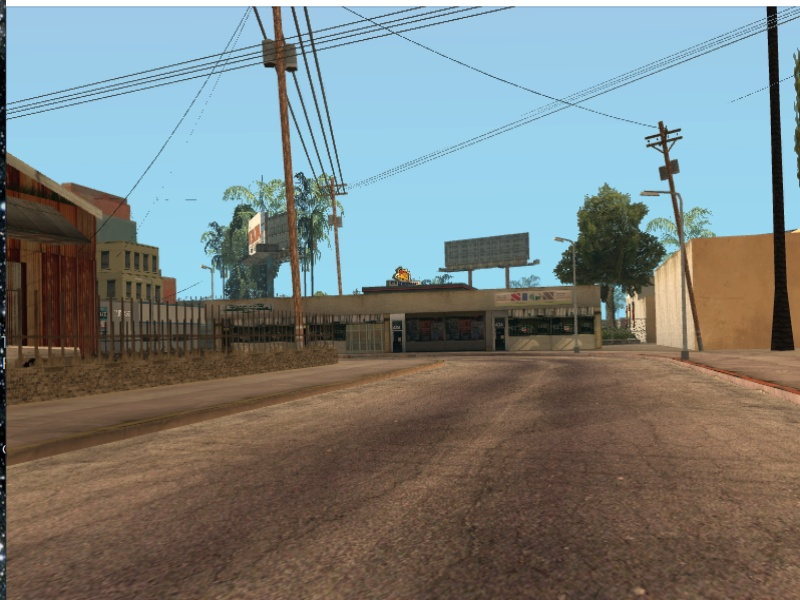pole: (679, 193, 695, 363), (571, 242, 583, 356)
tree: (763, 26, 795, 361)
